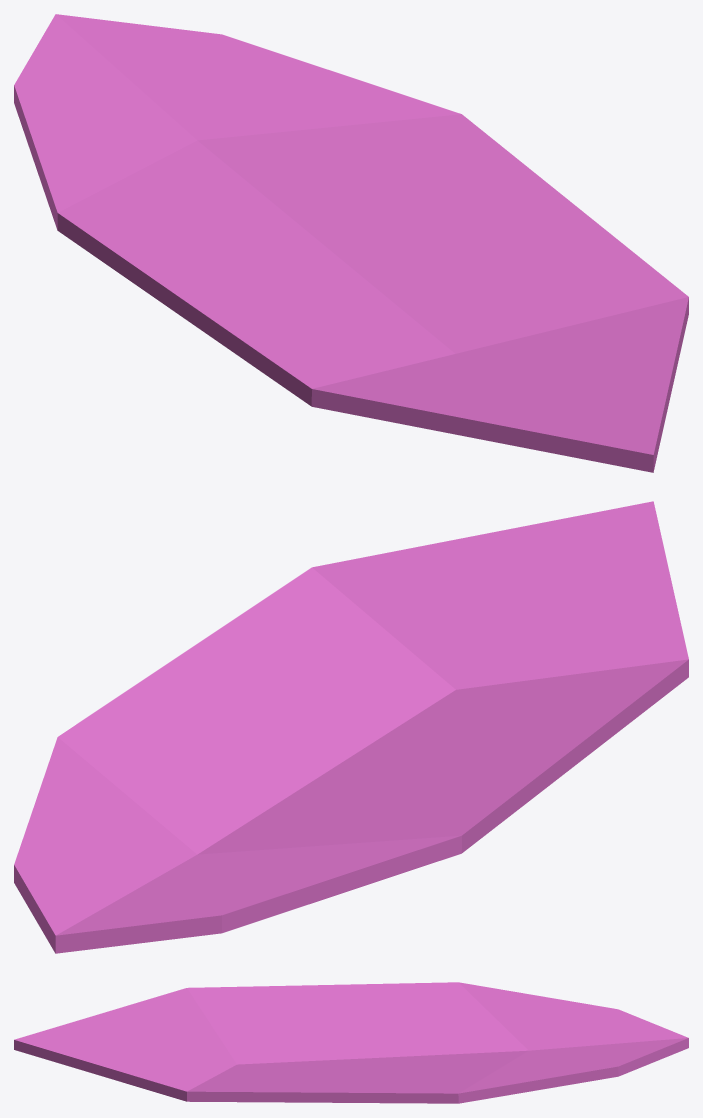
File: leaf02.fbx
3 renders of one model, top to bottom at view 1: azimuth 30°, elevation 25°; view 2: azimuth 150°, elevation 25°; view 3: azimuth 270°, elevation 25°, orthographic. The views are drawn at different scales.
Parts seen in each view (by area): view 1: yaprakv2; view 2: yaprakv2; view 3: yaprakv2.
Part boxes in pixels (x1=…): yaprakv2: x1=14, y1=14, x2=688, y2=472; yaprakv2: x1=14, y1=501, x2=688, y2=953; yaprakv2: x1=14, y1=982, x2=688, y2=1103.
Bounding box in the file's own units: 0.1046 × 0.0161 × 0.268.
